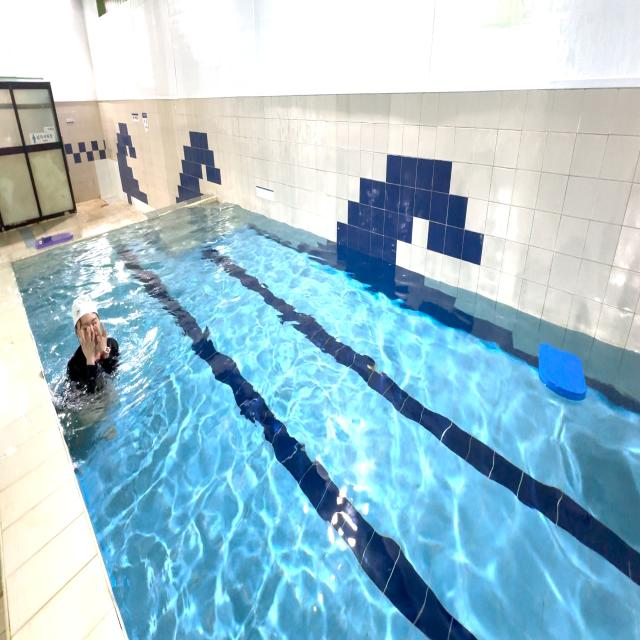Swimming: (41, 280, 152, 452)
